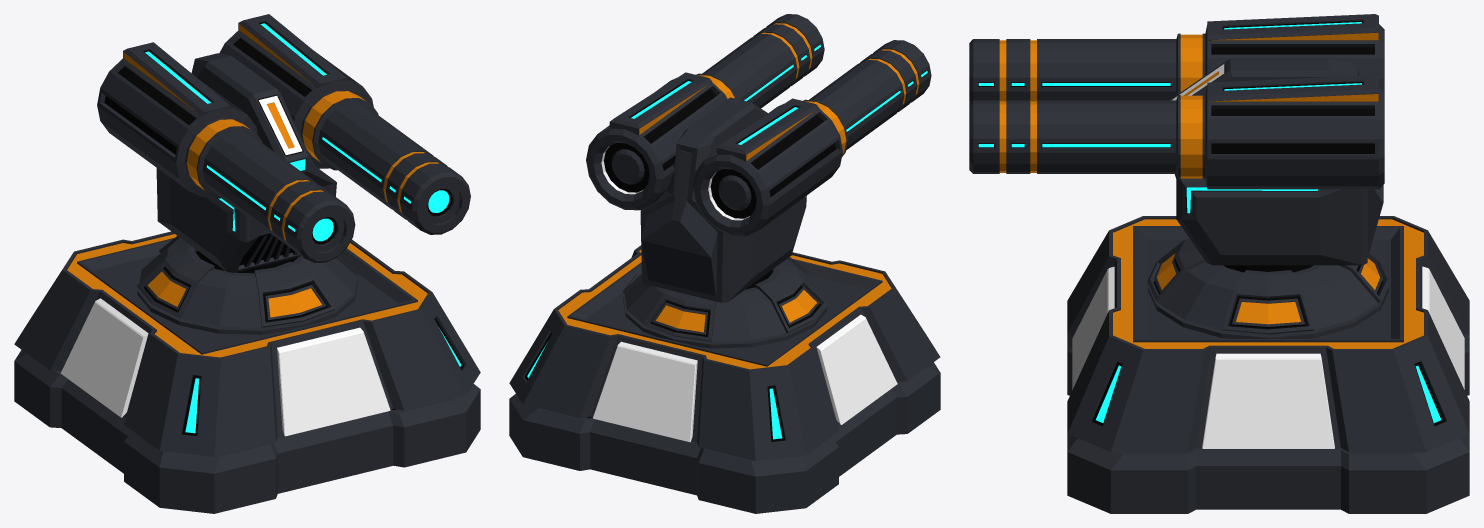
Rendered from SM_Turret_TwinBarrel.fbx.
3 views of the same model, side by side, from view 1: azimuth 30°, elevation 25°; view 2: azimuth 150°, elevation 25°; view 3: azimuth 270°, elevation 25° (orthographic). The views are drawn at different scales.
Visible parts, largest first — view 1: SM_Turret_TwinBarrel, SM_Turret_TwinBarrel_Rotator, SM_Turret_TwinBarrel_Weapon_Right_01, SM_Turret_TwinBarrel_Head, SM_Turret_TwinBarrel_Weapon_Left_02, SM_Turret_TwinBarrel_Weapon_Right_02, SM_Turret_TwinBarrel_Weapon_Left_01; view 2: SM_Turret_TwinBarrel, SM_Turret_TwinBarrel_Head, SM_Turret_TwinBarrel_Weapon_Right_01, SM_Turret_TwinBarrel_Rotator, SM_Turret_TwinBarrel_Weapon_Left_01, SM_Turret_TwinBarrel_Weapon_Right_02, SM_Turret_TwinBarrel_Weapon_Left_02; view 3: SM_Turret_TwinBarrel, SM_Turret_TwinBarrel_Weapon_Left_01, SM_Turret_TwinBarrel_Head, SM_Turret_TwinBarrel_Rotator, SM_Turret_TwinBarrel_Weapon_Left_02, SM_Turret_TwinBarrel_Weapon_Right_02, SM_Turret_TwinBarrel_Weapon_Right_01.
Part boxes in pixels (x1,y1,x2,y2): SM_Turret_TwinBarrel: (14,231,480,513); SM_Turret_TwinBarrel_Rotator: (137,236,358,334); SM_Turret_TwinBarrel_Weapon_Right_01: (97,42,262,198); SM_Turret_TwinBarrel_Head: (156,53,336,272); SM_Turret_TwinBarrel_Weapon_Left_02: (318,103,470,234); SM_Turret_TwinBarrel_Weapon_Right_02: (202,132,355,262); SM_Turret_TwinBarrel_Weapon_Left_01: (219,14,378,170); SM_Turret_TwinBarrel: (509,245,940,513); SM_Turret_TwinBarrel_Head: (640,97,806,302); SM_Turret_TwinBarrel_Weapon_Right_01: (693,98,848,236); SM_Turret_TwinBarrel_Rotator: (622,257,827,348); SM_Turret_TwinBarrel_Weapon_Left_01: (586,72,737,210); SM_Turret_TwinBarrel_Weapon_Right_02: (809,40,931,149); SM_Turret_TwinBarrel_Weapon_Left_02: (702,14,824,108); SM_Turret_TwinBarrel: (1067,216,1469,513); SM_Turret_TwinBarrel_Weapon_Left_01: (1176,75,1384,189); SM_Turret_TwinBarrel_Head: (1170,58,1383,265); SM_Turret_TwinBarrel_Rotator: (1147,238,1389,338); SM_Turret_TwinBarrel_Weapon_Left_02: (969,100,1176,173); SM_Turret_TwinBarrel_Weapon_Right_02: (969,39,1176,103); SM_Turret_TwinBarrel_Weapon_Right_01: (1176,14,1384,94).
Bounding box in the file's own units: 1 × 1.04 × 1.24.
